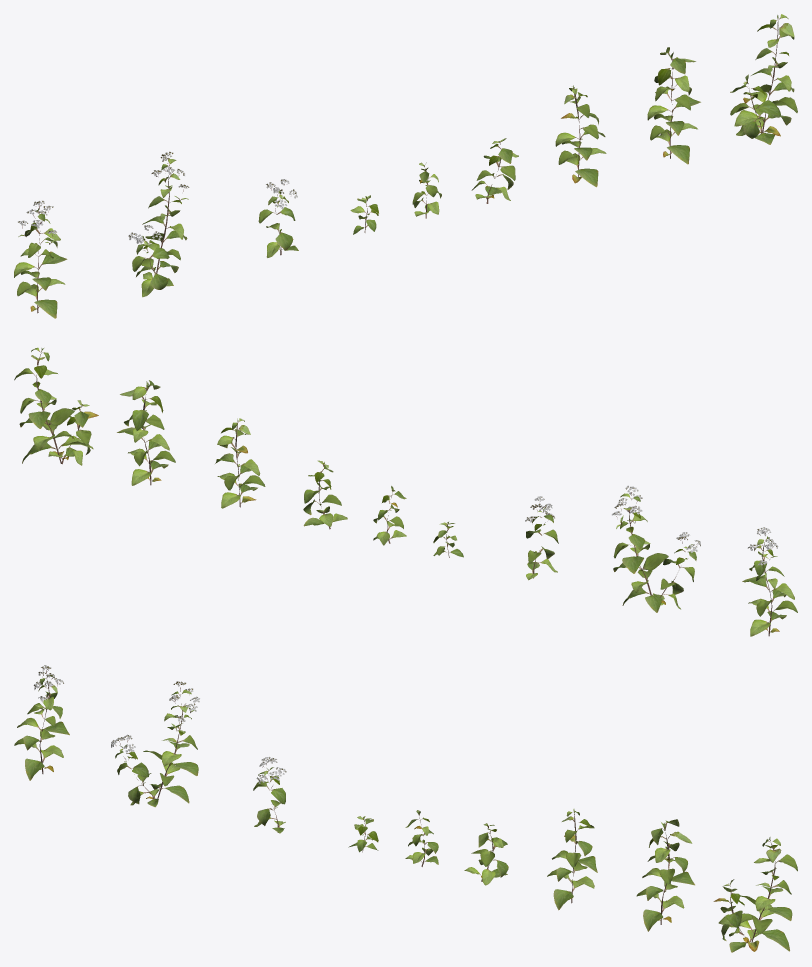
Rendered from shrub_01.glb.
3 renders of one model, top to bottom at view 1: azimuth 30°, elevation 25°; view 2: azimuth 150°, elevation 25°; view 3: azimuth 330°, elevation 25°, orthographic. The views are drawn at different scales.
Visible parts, largest first — view 1: shrub_01_a; view 2: shrub_01_a; view 3: shrub_01_a.
Boxes of the visible parts, box(x1,y1,x2,y2) form: shrub_01_a: box(14, 14, 797, 318); shrub_01_a: box(14, 347, 797, 636); shrub_01_a: box(14, 665, 797, 952).
Size of the model in its own units: 2.59 by 0.3955 by 0.2182.
1 material, 1 textured.
